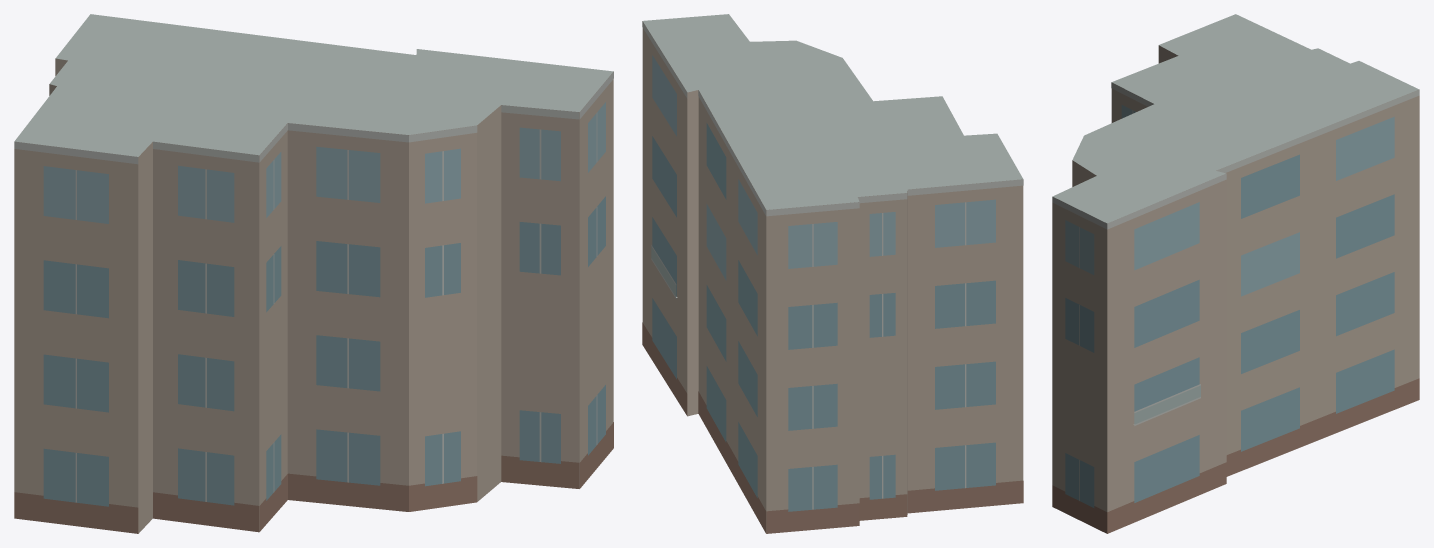
The model's file is survey-upis-32605864.glb.
The picture shows the model from 3 angles, left to right: view 1: azimuth 30°, elevation 25°; view 2: azimuth 150°, elevation 25°; view 3: azimuth 270°, elevation 25°; orthographic projection. The views are drawn at different scales.
Visible parts, largest first — view 1: survey-upis-32605864.tmp; view 2: survey-upis-32605864.tmp; view 3: survey-upis-32605864.tmp.
Part boxes in pixels (x1,y1,x2,y2): survey-upis-32605864.tmp: [14, 14, 613, 533]; survey-upis-32605864.tmp: [642, 14, 1023, 533]; survey-upis-32605864.tmp: [1052, 14, 1419, 533].
Size of the model in its own units: 18.1 by 12.5 by 13.4.
